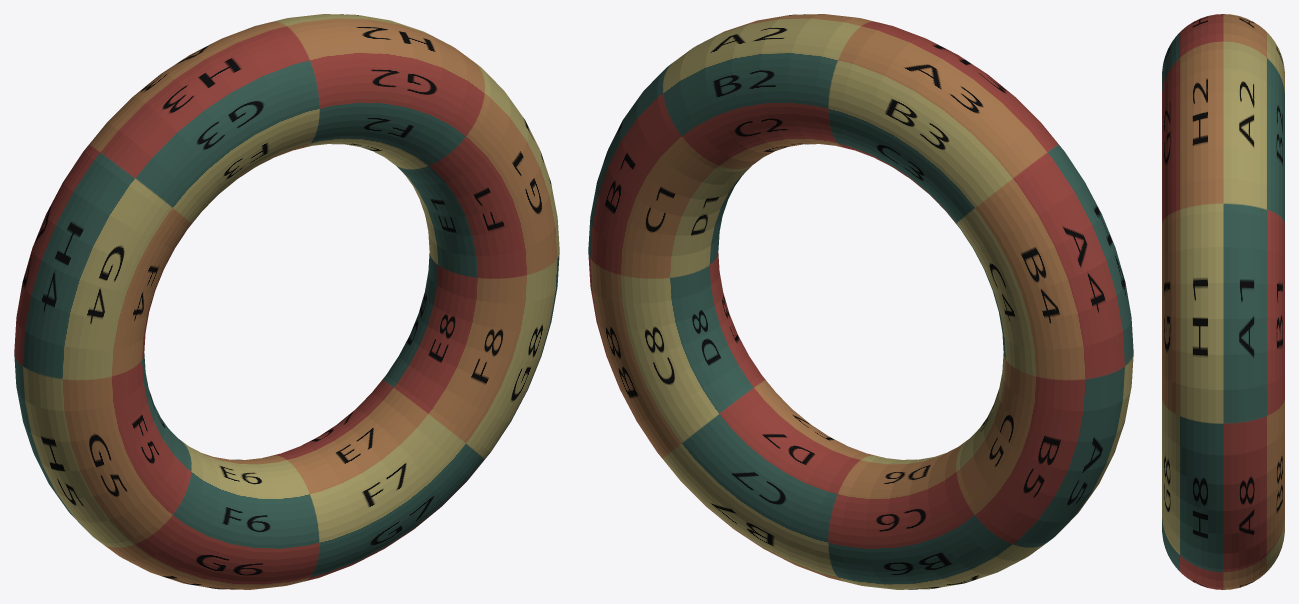
File: texture_torus_R27_r21.glb
3 views of the same model, side by side, from view 1: azimuth 30°, elevation 25°; view 2: azimuth 150°, elevation 25°; view 3: azimuth 270°, elevation 25° (orthographic). The views are drawn at different scales.
Parts seen in each view (by area): view 1: world; view 2: world; view 3: world.
Boxes of the visible parts, x1,y1,x2,y2 form: world: (14,14,559,589); world: (588,14,1133,589); world: (1162,14,1284,589).
Bounding box in the file's own units: 35.6 × 35.53 × 7.59.
Materials: 1 (1 with a texture image).
